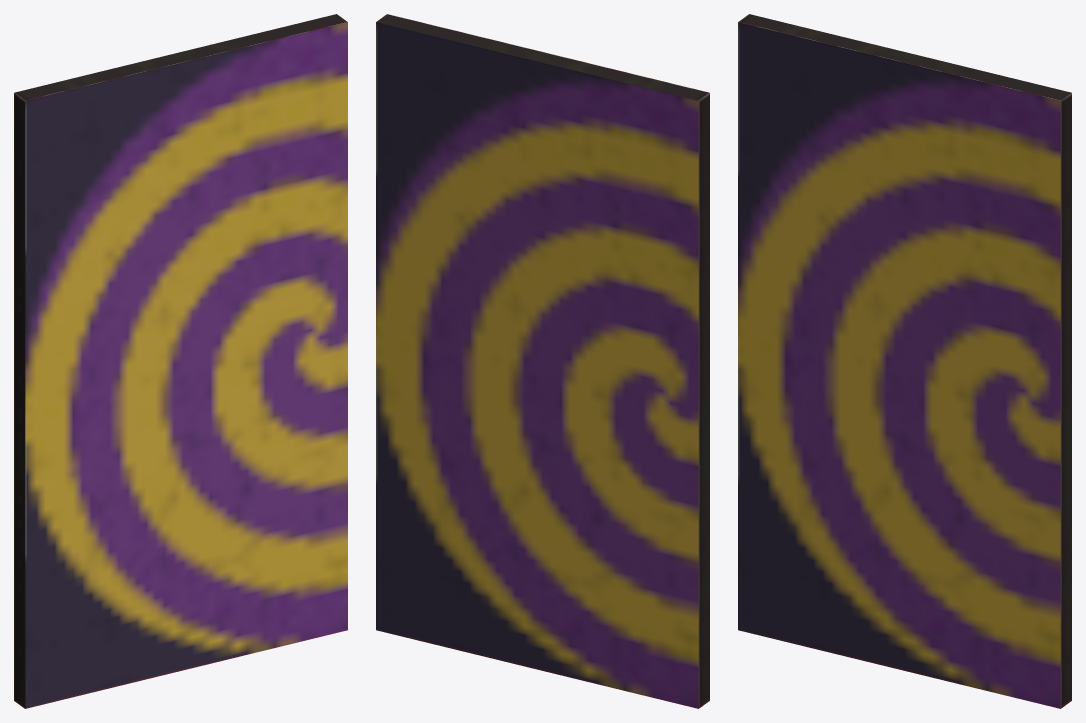
The model's file is fun_wall.fbx.
3 renders of one model, left to right at view 1: azimuth 30°, elevation 25°; view 2: azimuth 150°, elevation 25°; view 3: azimuth 330°, elevation 25°, orthographic.
Parts seen in each view (by area): view 1: fun_wall; view 2: fun_wall; view 3: fun_wall.
Boxes of the visible parts, x1,y1,x2,y2 form: fun_wall: (14,14,347,708); fun_wall: (376,14,709,708); fun_wall: (738,14,1071,708).
Bounding box in the file's own units: 2 × 3.6 × 0.12.
Materials: 1 (1 with a texture image).
